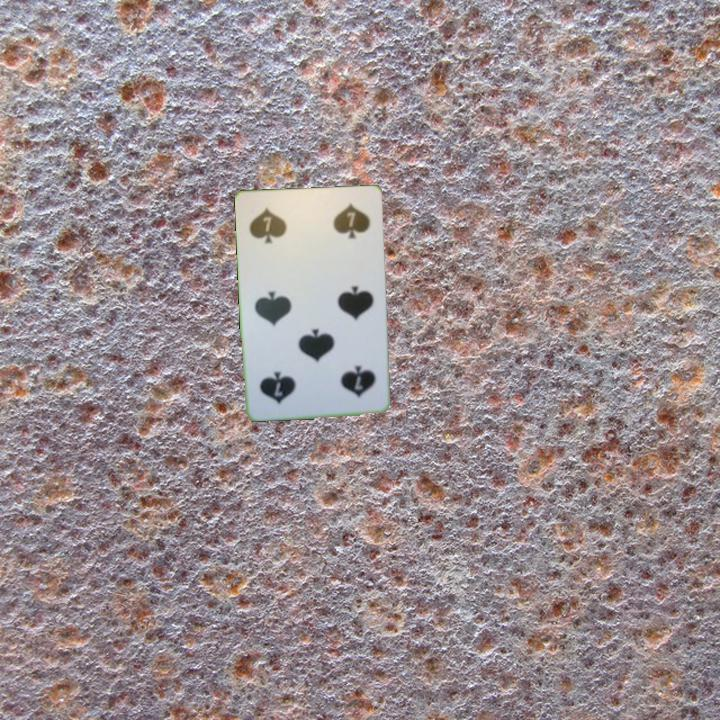s_7.png: (311, 348, 381, 409), (244, 197, 313, 258)
